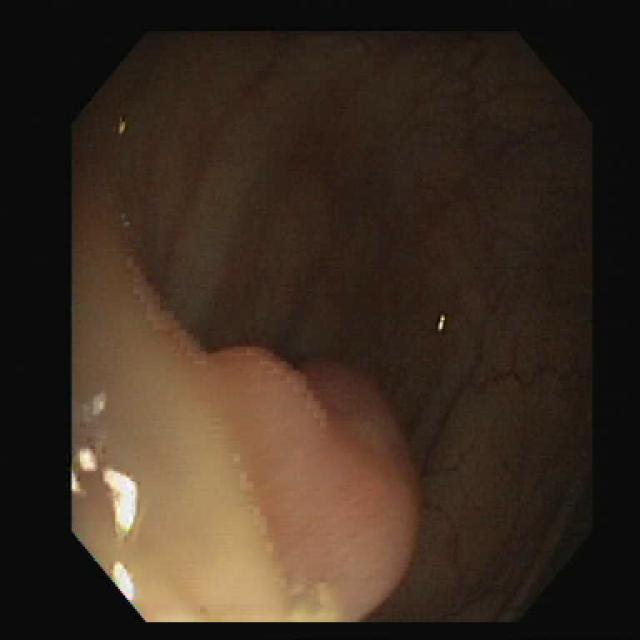tumor: (205, 349, 418, 618)
